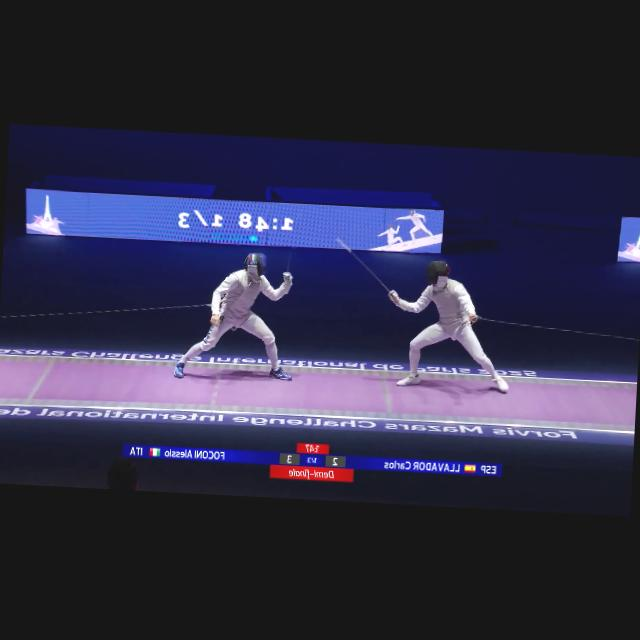blade: (332, 235, 398, 300)
